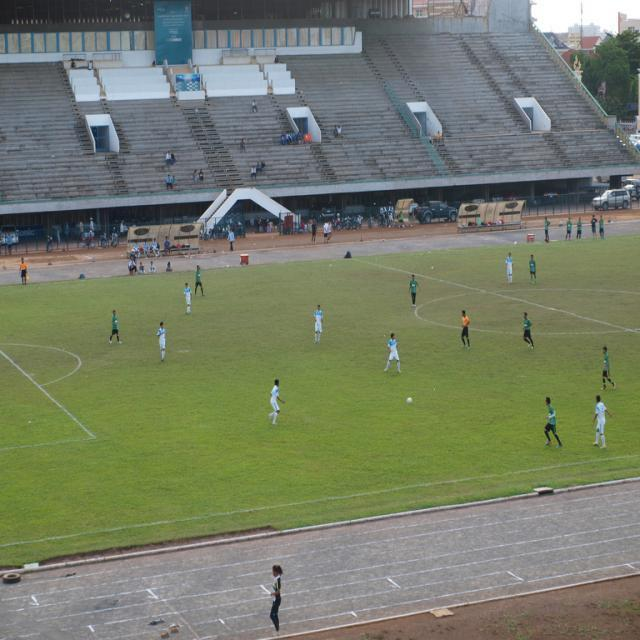football: (399, 390, 426, 413)
